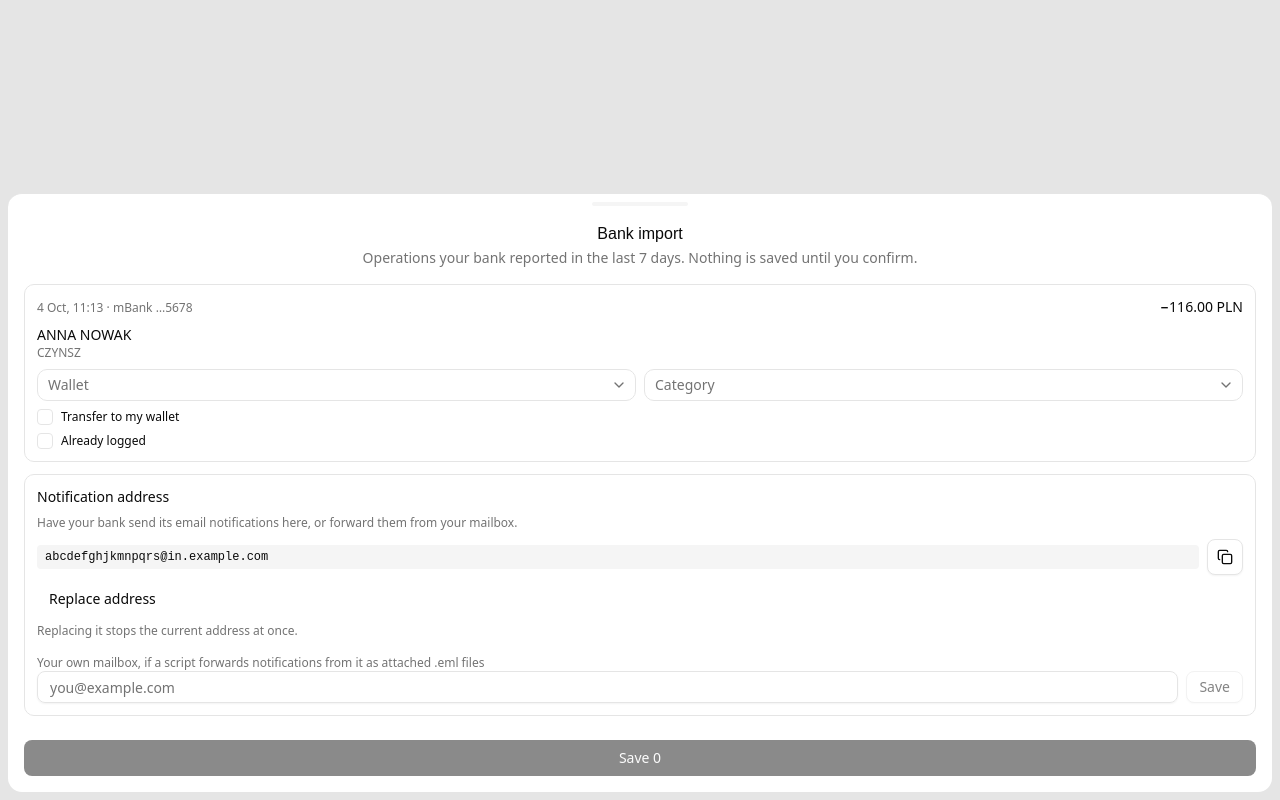
Scenario: BankImportDrawer › lets any operation be marked as already logged, and unmarked
This screenshot has width=1280, height=800.
Click the checkbox named "Already logged" next to "Already logged" at (45, 441), box 37,433 -> 53,449
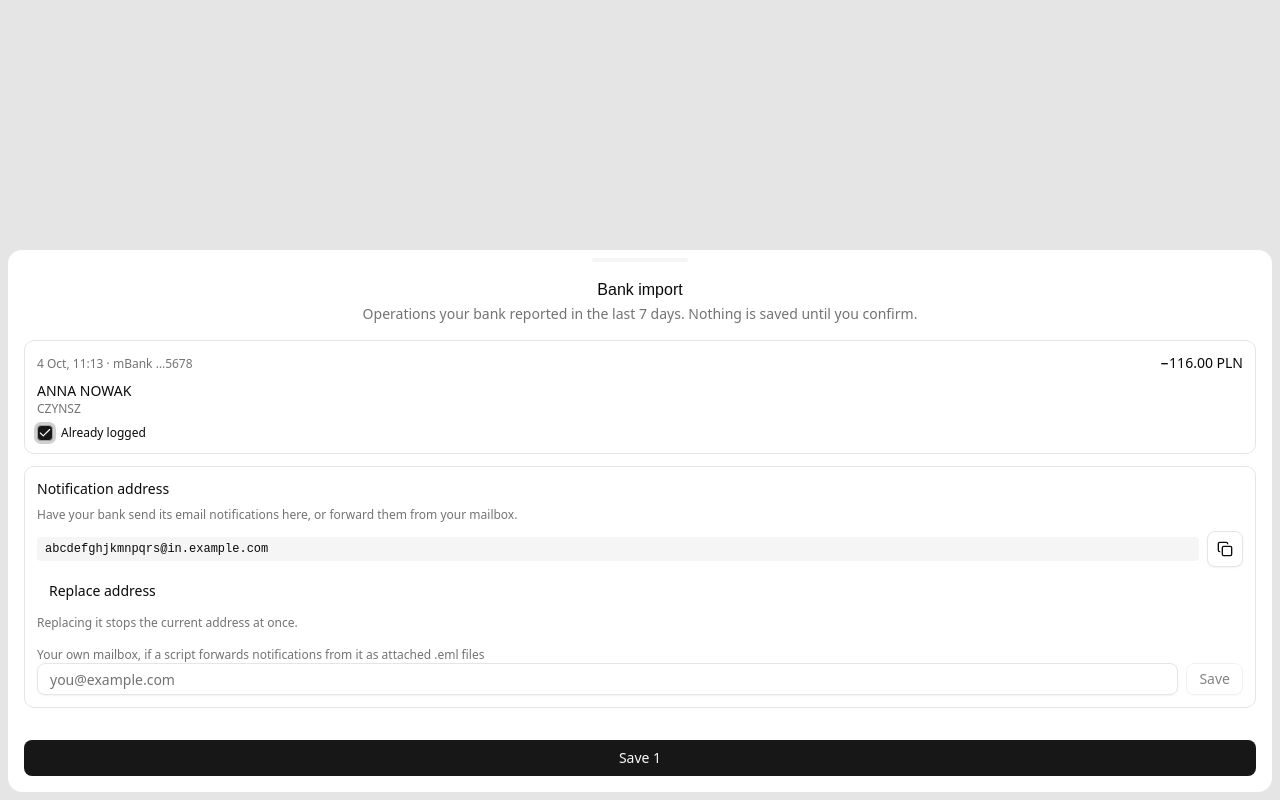
Now the dropdown labelled "Wallet" is gone
Now the button "Save 1" is enabled, box 24,740 -> 1256,776
Click the checkbox named "Already logged" at (45, 433), box 37,425 -> 53,441
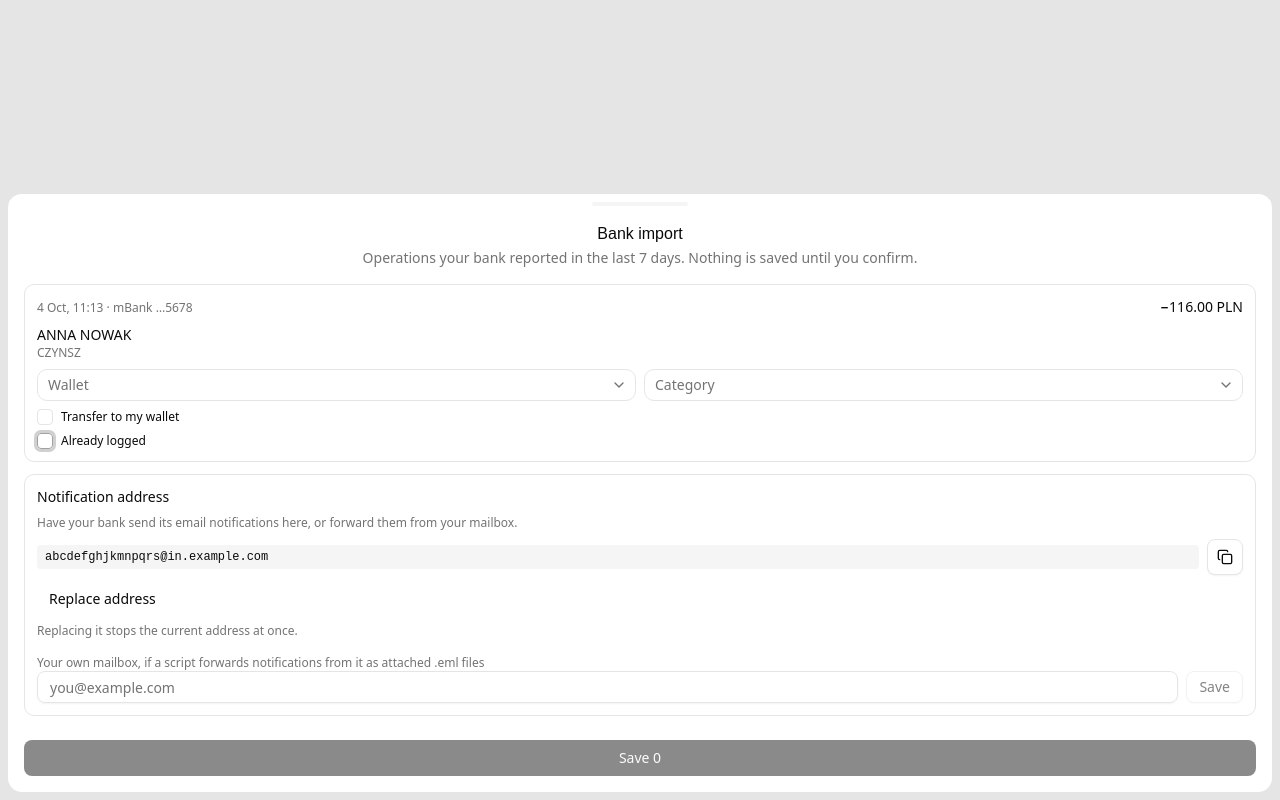
Now the dropdown labelled "Wallet" is shown, box 37,369 -> 636,401
Now the button "Save 0" is disabled, box 24,740 -> 1256,776
